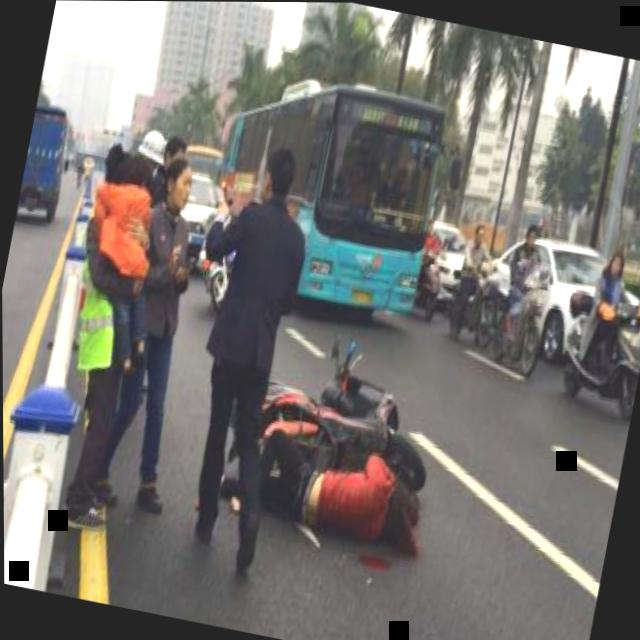Fall-Detected: (230, 399, 448, 575)
